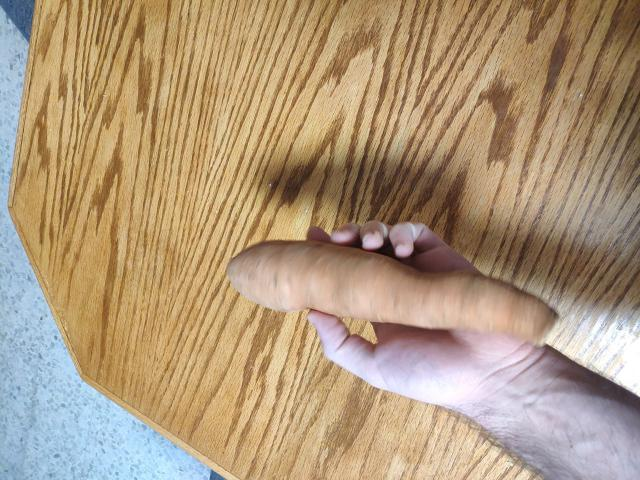sweet_potato: (226, 216, 540, 346)
